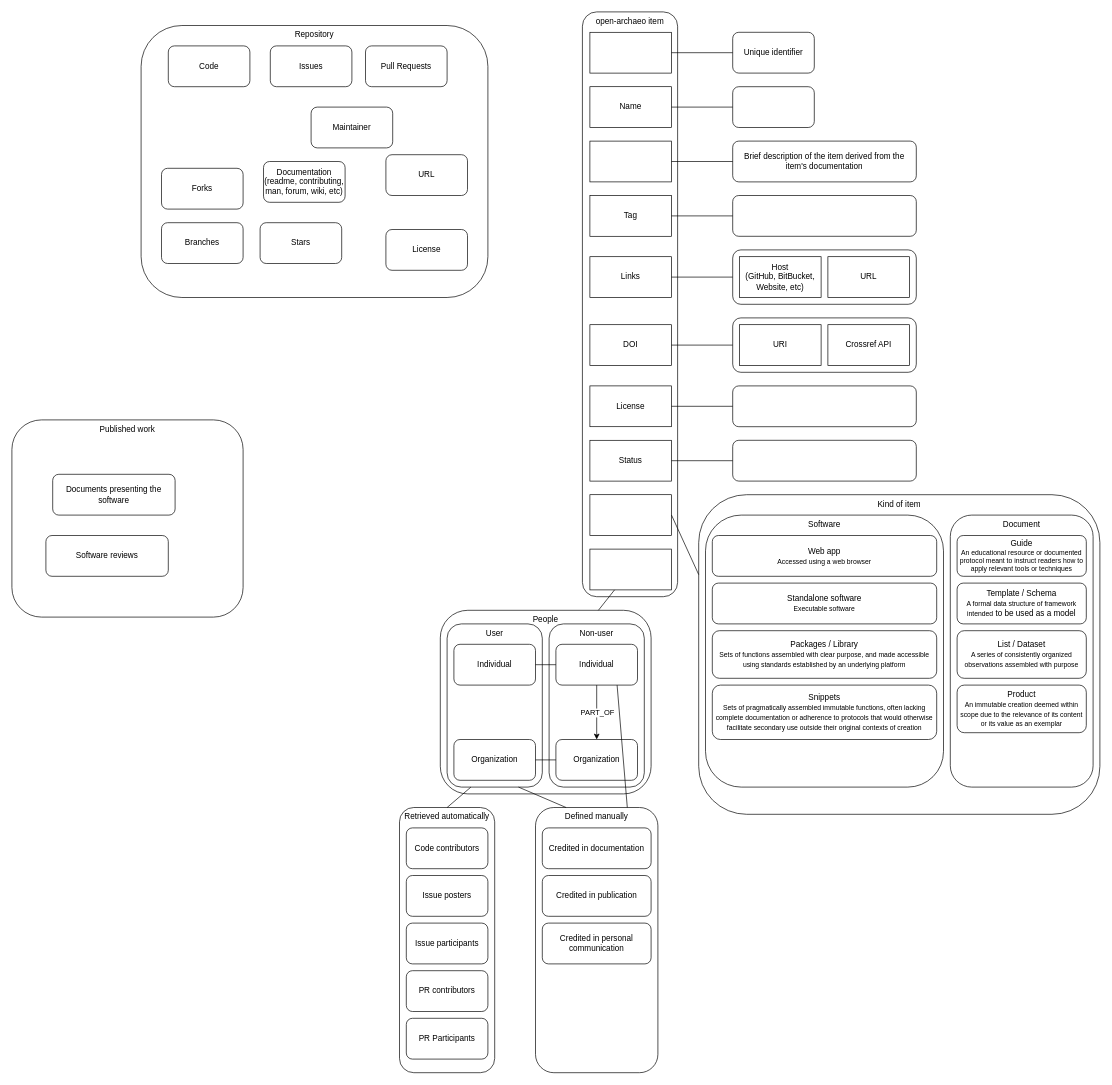
Image size: 1112x1085. Some labels were removed from this diagram. Each missing label, with the centre of its shape:
A term used to identify the domain of research that this item is meant to serve: the point at 824,215
Active OR inactive: the point at 824,460
Category: the point at 630,515
Contributors: the point at 630,569
Description: the point at 630,161
Fulltext + metadata OR none: the point at 824,406
Name of the repository: the point at 773,107
UUID: the point at 630,52
